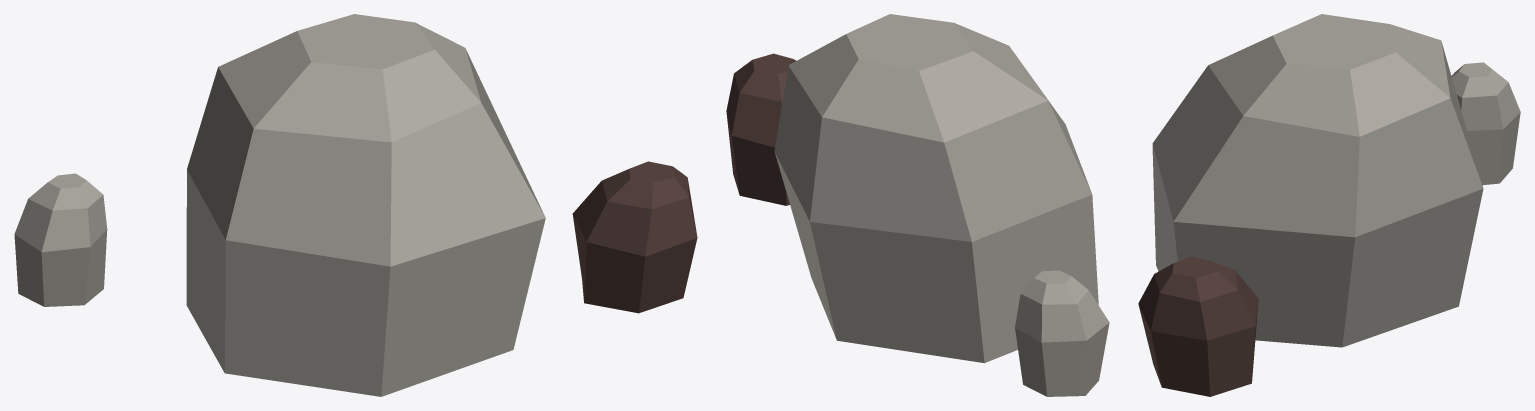
The model's file is site_rock4.fbx.
3 views of the same model, side by side, from view 1: azimuth 30°, elevation 25°; view 2: azimuth 150°, elevation 25°; view 3: azimuth 270°, elevation 25° (orthographic). The views are drawn at different scales.
Parts seen in each view (by area): view 1: a1022/0/site_rock4; view 2: a1022/0/site_rock4; view 3: a1022/0/site_rock4.
Part boxes in pixels (x1,y1,x2,y2): a1022/0/site_rock4: (14,14,697,396); a1022/0/site_rock4: (726,14,1109,396); a1022/0/site_rock4: (1138,14,1520,396).
Bounding box in the file's own units: 4.97 × 2.42 × 3.25.
